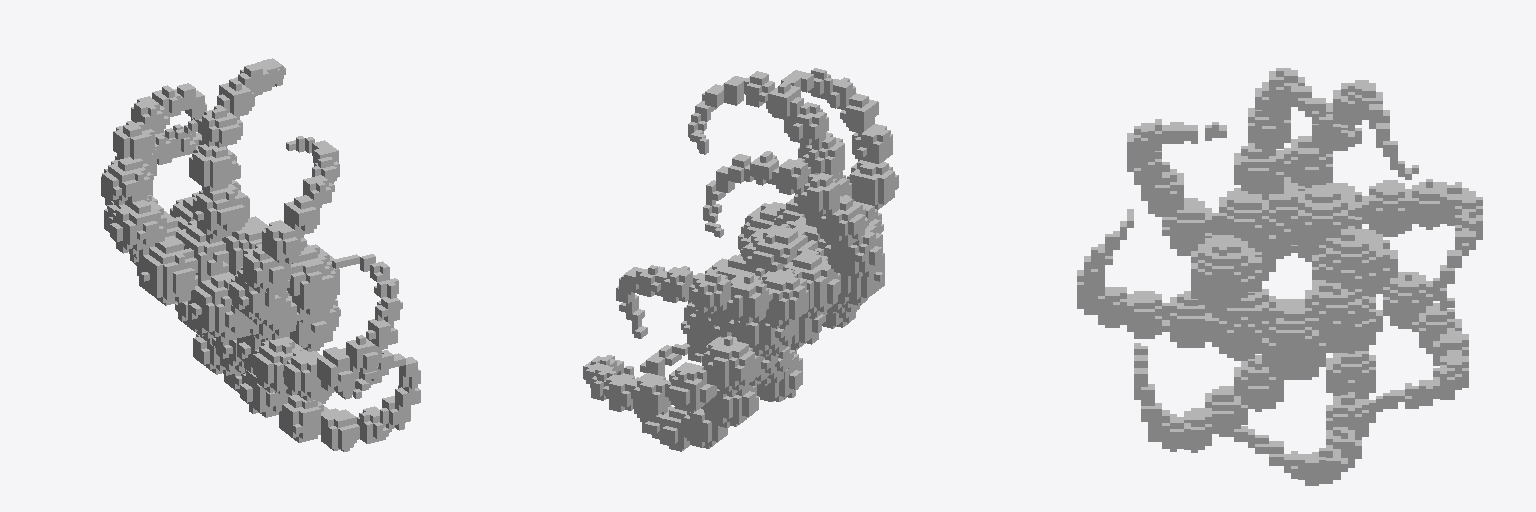
The model's file is _fractal_3.obj.
3 renders of one model, left to right at view 1: azimuth 30°, elevation 25°; view 2: azimuth 150°, elevation 25°; view 3: azimuth 270°, elevation 25°, orthographic.
Bounding box in the file's own units: 1 × 1.39 × 1.39.